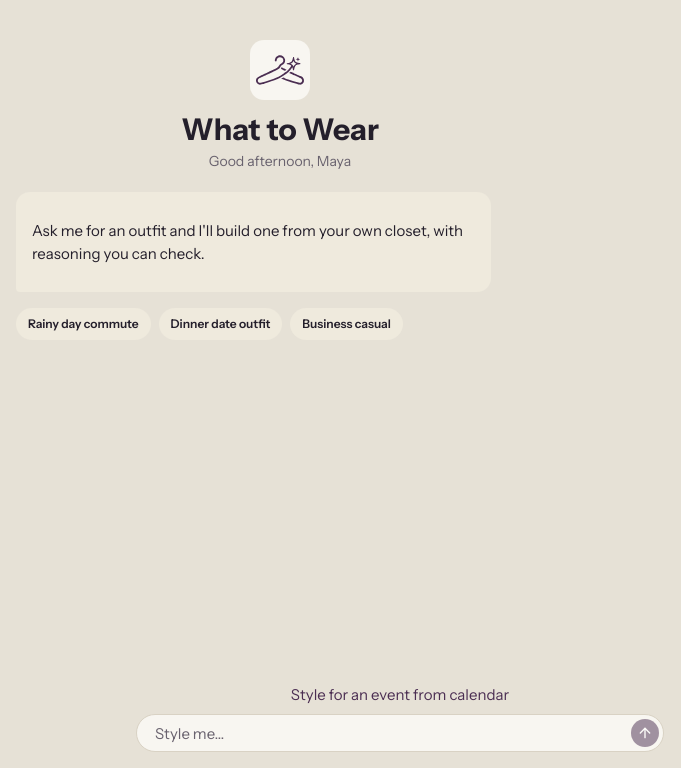
Scenario: RecommendChat › full happy path: hero -> compose gets a reply -> Start styling -> wrap-up then pager
The image size is (681, 768).
Type "business casual" into the field named "Message" at [388, 733], box 153,722 -> 623,744
Then press Enter
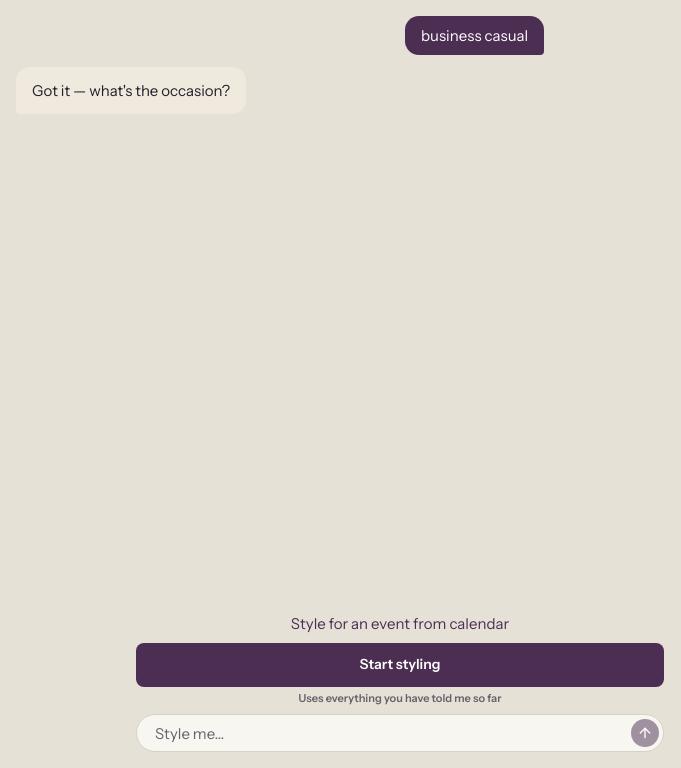
expect the text "Got it — what's the occasion?" is shown: met, box 32,79 -> 230,102
expect the button "Start styling" is enabled: met
Click the button "Start styling" at [400, 665], box 136,643 -> 664,687
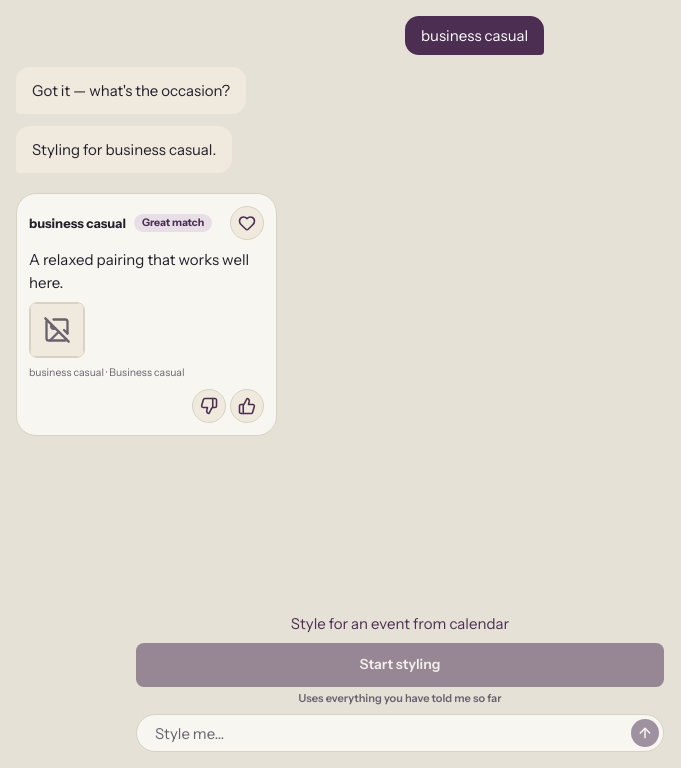
expect the text "Styling for business casual." is shown: met, box 32,138 -> 216,161
expect the text "A relaxed pairing that works well here." is shown: met, box 29,248 -> 264,294
